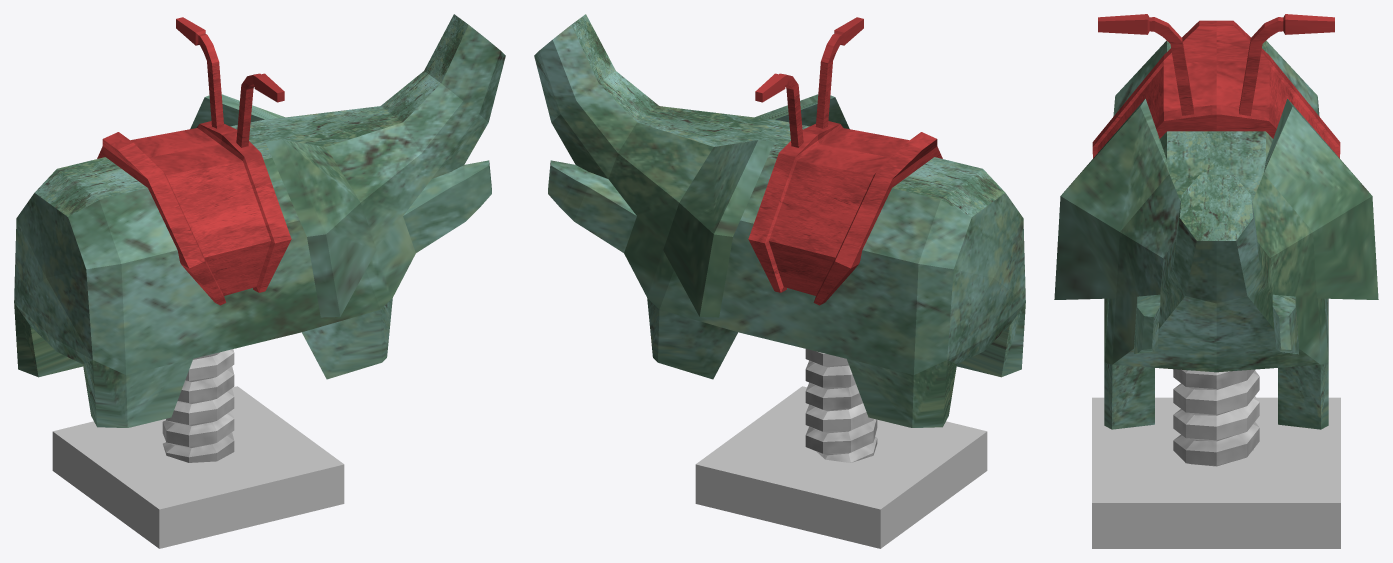
The model's file is Elephant.fbx.
3 views of the same model, side by side, from view 1: azimuth 30°, elevation 25°; view 2: azimuth 150°, elevation 25°; view 3: azimuth 270°, elevation 25° (orthographic). The views are drawn at different scales.
Visible parts, largest first — view 1: Cube.001, Spring.001, Sadle.001, Circle.001; view 2: Cube.001, Spring.001, Sadle.001, Circle.001; view 3: Cube.001, Spring.001, Sadle.001, Circle.001.
Boxes of the visible parts, x1=… form: Cube.001: x1=14, y1=14, x2=505, y2=427; Spring.001: x1=52, y1=386, x2=344, y2=548; Sadle.001: x1=97, y1=17, x2=291, y2=305; Circle.001: x1=162, y1=349, x2=234, y2=462; Cube.001: x1=534, y1=14, x2=1025, y2=427; Spring.001: x1=695, y1=386, x2=987, y2=548; Sadle.001: x1=748, y1=17, x2=942, y2=305; Circle.001: x1=805, y1=349, x2=877, y2=462; Cube.001: x1=1054, y1=40, x2=1378, y2=429; Spring.001: x1=1092, y1=397, x2=1340, y2=548; Sadle.001: x1=1092, y1=14, x2=1340, y2=158; Circle.001: x1=1173, y1=369, x2=1259, y2=466.
Bounding box in the file's own units: 161 × 145 × 85.9.
